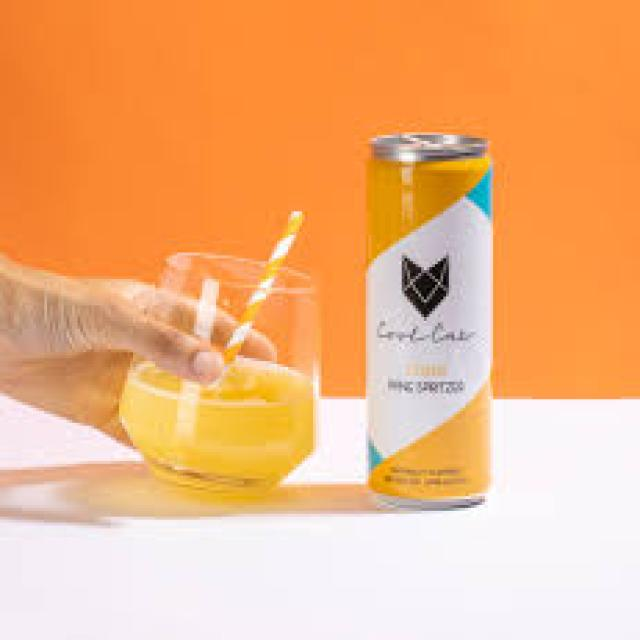Cans: (357, 120, 499, 514)
